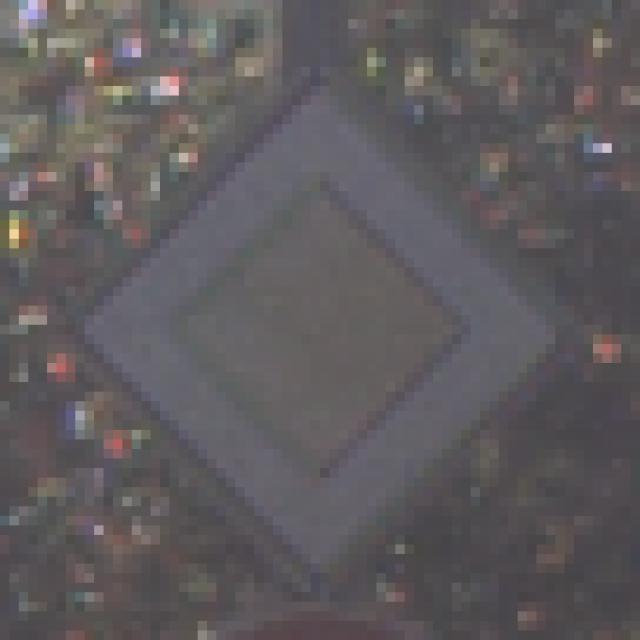Main Road: (58, 58, 585, 584)
